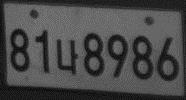1: (34, 29, 50, 74)
6: (156, 36, 180, 81)
8: (81, 32, 106, 78), (131, 35, 154, 80), (8, 27, 30, 73)
9: (106, 33, 129, 78)
나: (55, 37, 78, 76)
